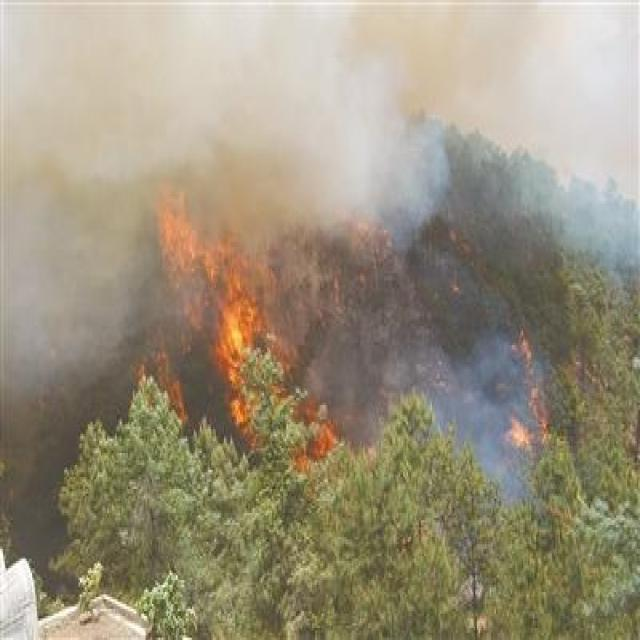fire: (122, 178, 557, 477)
smoke: (14, 23, 432, 213)
